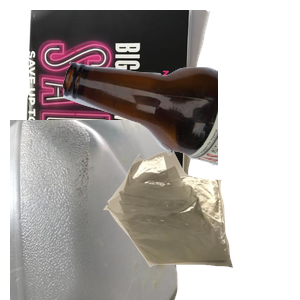glass: (60, 59, 300, 217)
paper: (22, 10, 225, 190)
plastic: (10, 120, 190, 300)
trash: (101, 148, 300, 300)
